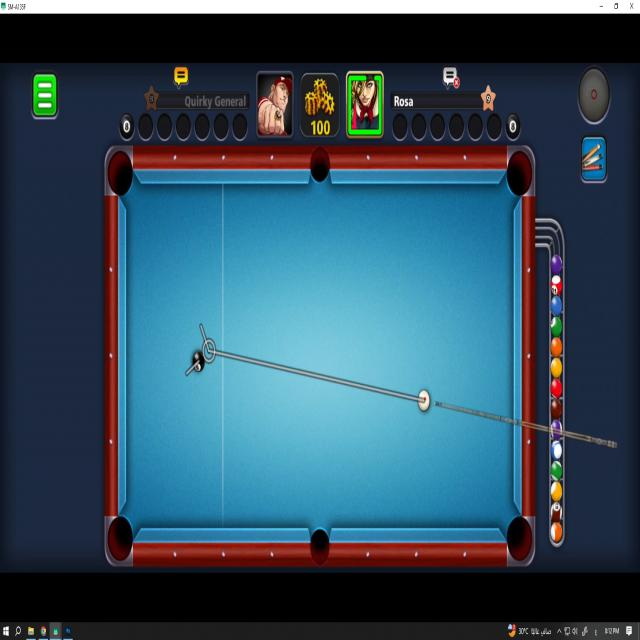object_ball: (193, 351, 205, 372)
white_cue_ball: (418, 390, 429, 411)
